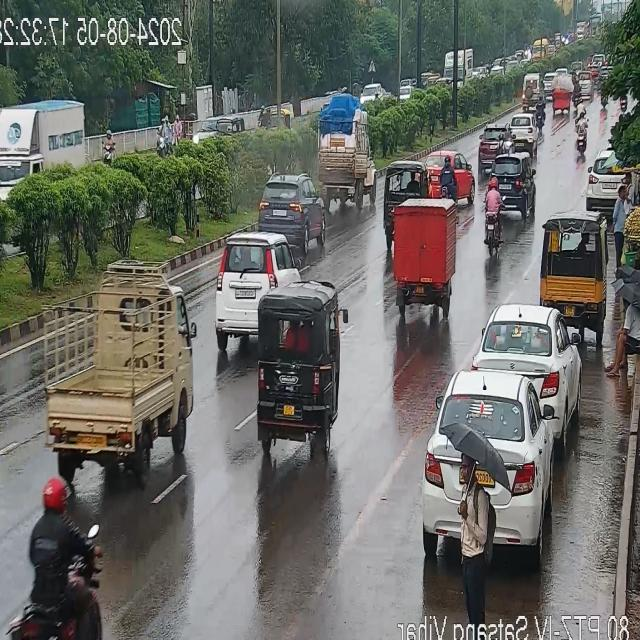2-wheelers: (14, 484, 98, 640), (482, 176, 507, 258), (571, 110, 589, 154), (102, 131, 118, 167)
auto: (51, 269, 185, 471), (252, 296, 334, 450), (384, 202, 455, 318), (538, 216, 606, 324), (383, 159, 425, 207), (550, 76, 574, 116)
car: (426, 376, 565, 562), (476, 306, 576, 409), (211, 235, 296, 342), (253, 181, 323, 241), (490, 156, 532, 220), (585, 150, 630, 207), (426, 150, 472, 204), (477, 124, 512, 168), (508, 113, 544, 143), (520, 73, 543, 109), (358, 82, 382, 108)
pedestrian: (452, 454, 494, 610), (606, 299, 640, 374), (612, 182, 628, 274)
truck: (0, 102, 92, 196), (310, 106, 370, 202), (444, 44, 474, 89)
